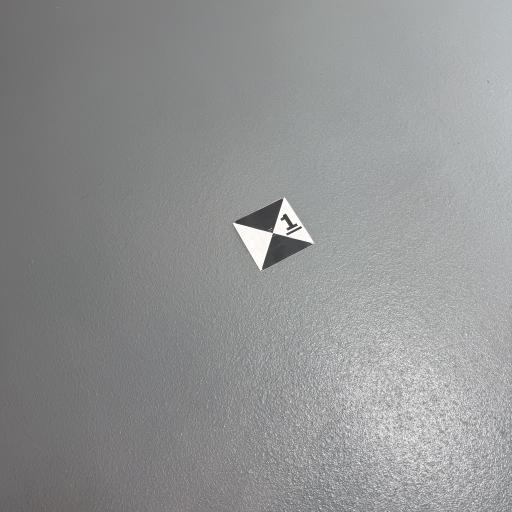target1: (233, 196, 319, 269)
